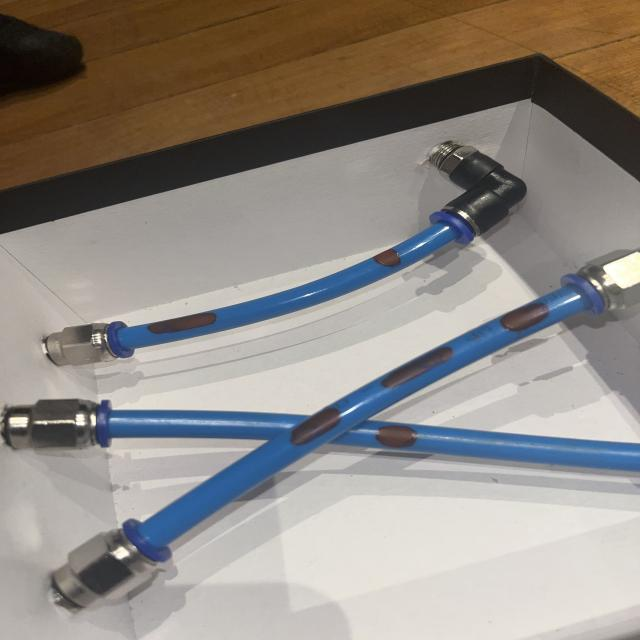hose_damage: (374, 341, 462, 393), (279, 402, 358, 453), (493, 296, 558, 338), (141, 307, 221, 339), (369, 423, 427, 451), (371, 248, 410, 271)
